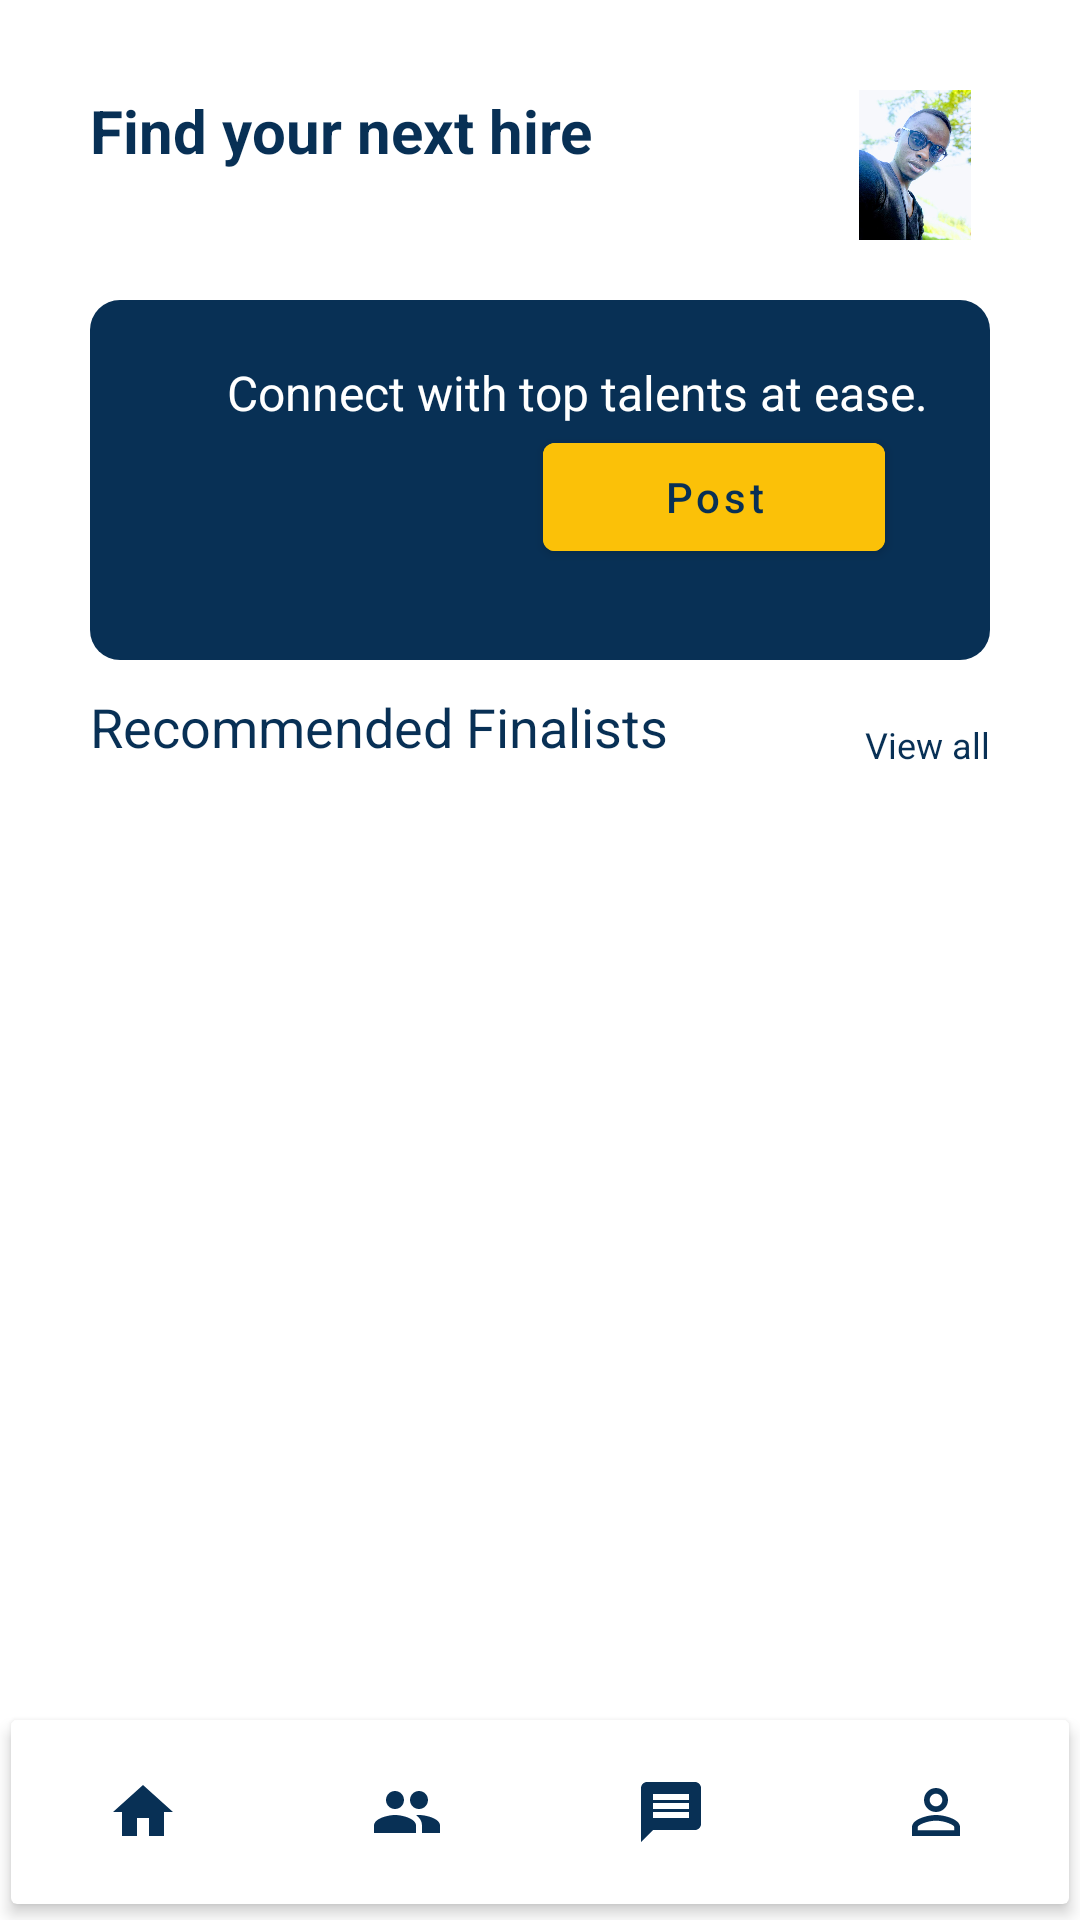

Where to tap for icons on this 1080px x 1920px app screen, as (x,y):
home: (143,1810)
message: (671,1812)
people: (407,1812)
person: (936,1812)
